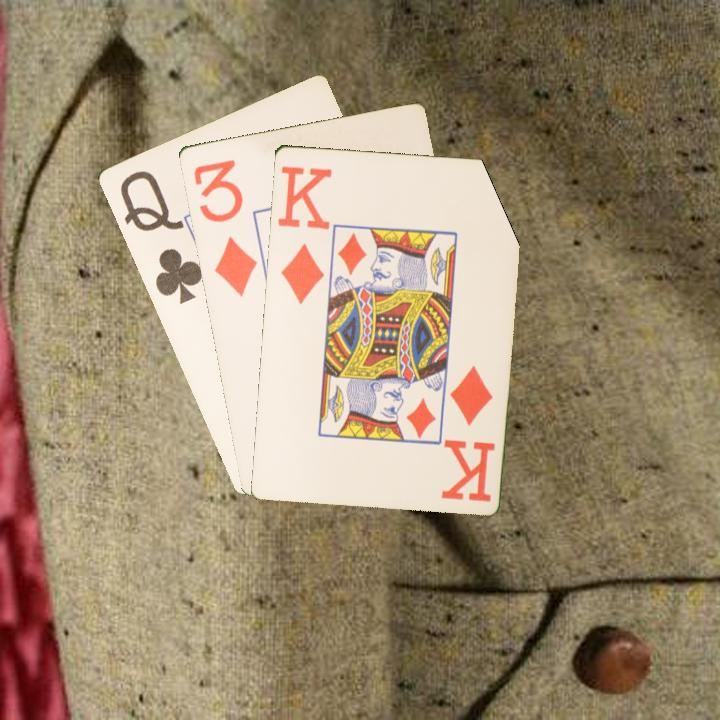3d: (189, 155, 260, 299)
Kd: (274, 161, 335, 306), (439, 361, 498, 504)
Qc: (116, 166, 205, 307)
